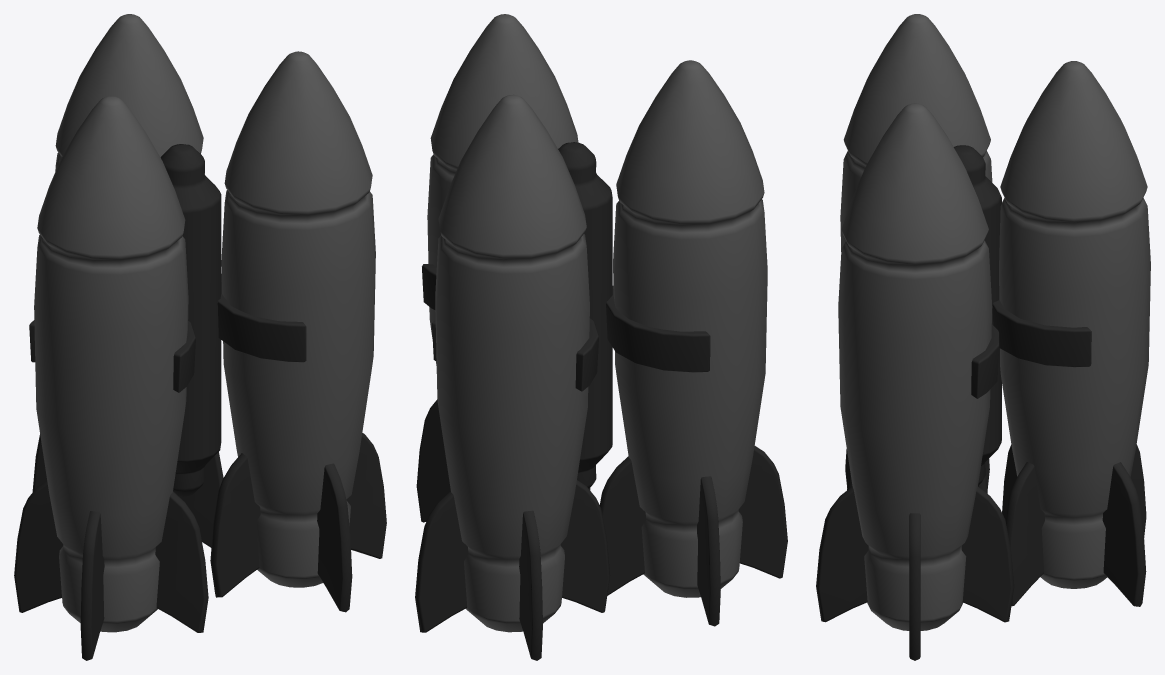
Rendered from _Small_rocket_ammunition.fbx.
The picture shows the model from 3 angles, left to right: view 1: azimuth 30°, elevation 25°; view 2: azimuth 150°, elevation 25°; view 3: azimuth 270°, elevation 25°; orthographic projection.
Visible parts, largest first — view 1: Small_rocket_ammunition; view 2: Small_rocket_ammunition; view 3: Small_rocket_ammunition.
Boxes of the visible parts, x1,y1,x2,y2 form: Small_rocket_ammunition: (14, 14, 386, 660); Small_rocket_ammunition: (415, 14, 787, 660); Small_rocket_ammunition: (816, 14, 1150, 660).
Bounding box in the file's own units: 68.11 × 99.89 × 58.81.
Materials: 1 (1 with a texture image).
